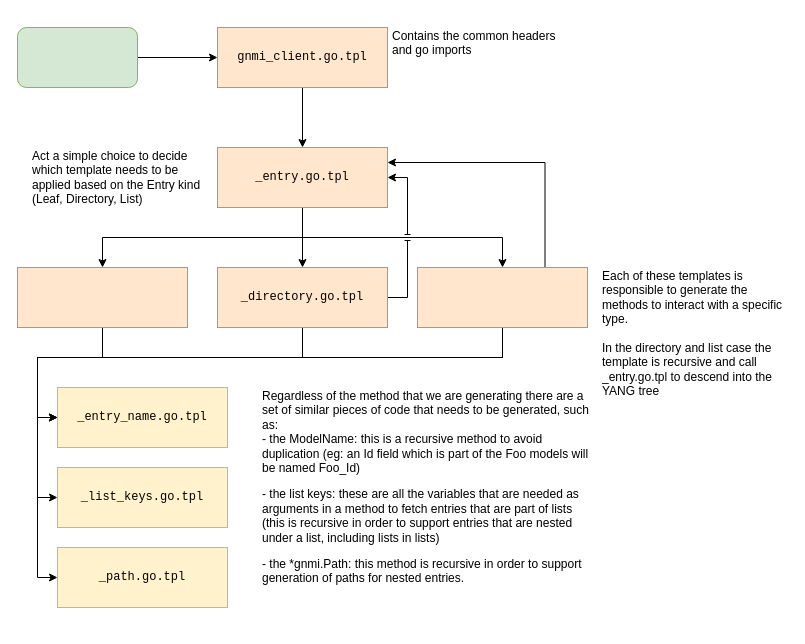
This 805x644 diagram has some shape labels left out. Each missing label, with the box of its shape:
*yang.Entry: (16, 26, 138, 88)
_leaf.go.tpl: (16, 266, 188, 328)
_list.go.tpl: (416, 266, 588, 328)
